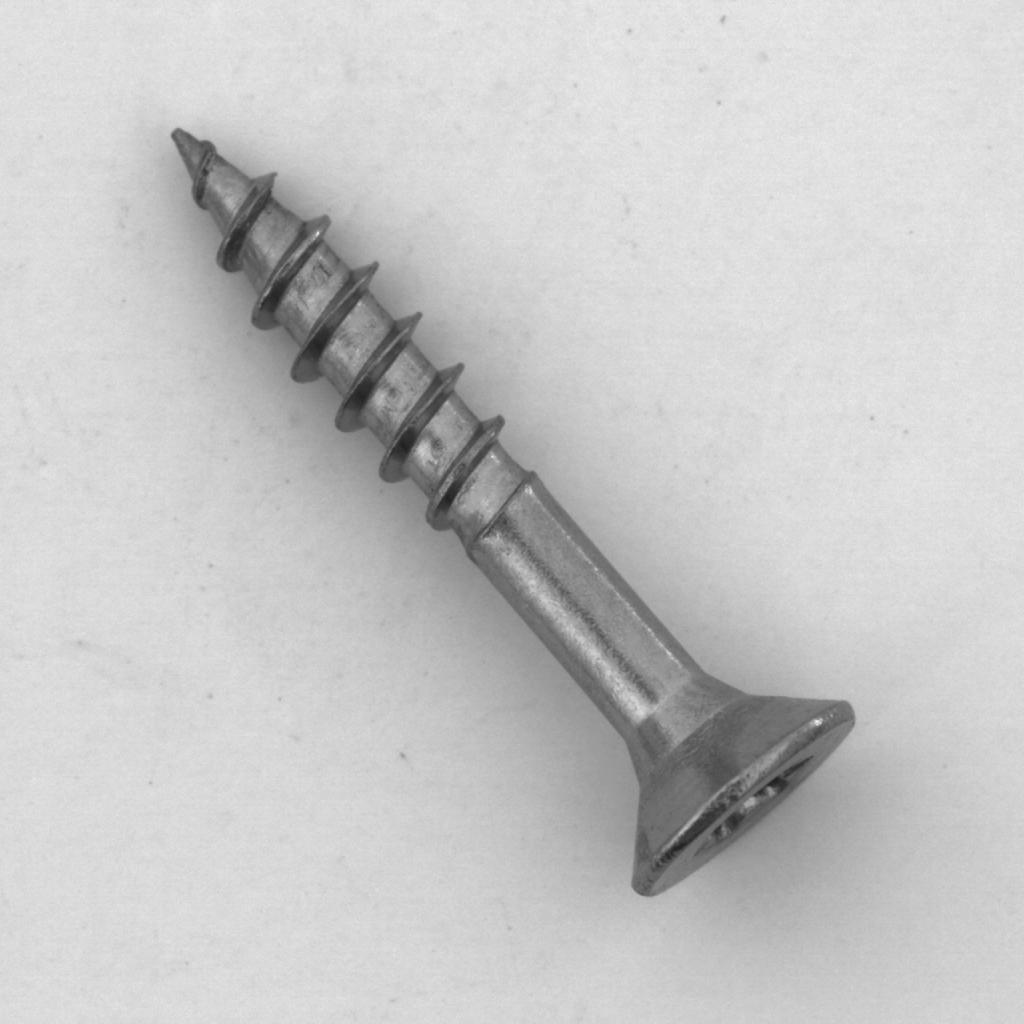good: (147, 111, 858, 907)
